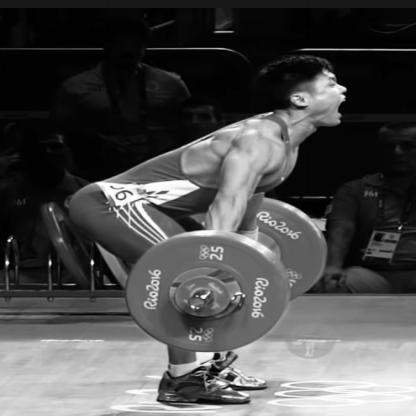barbell: (124, 199, 328, 352)
